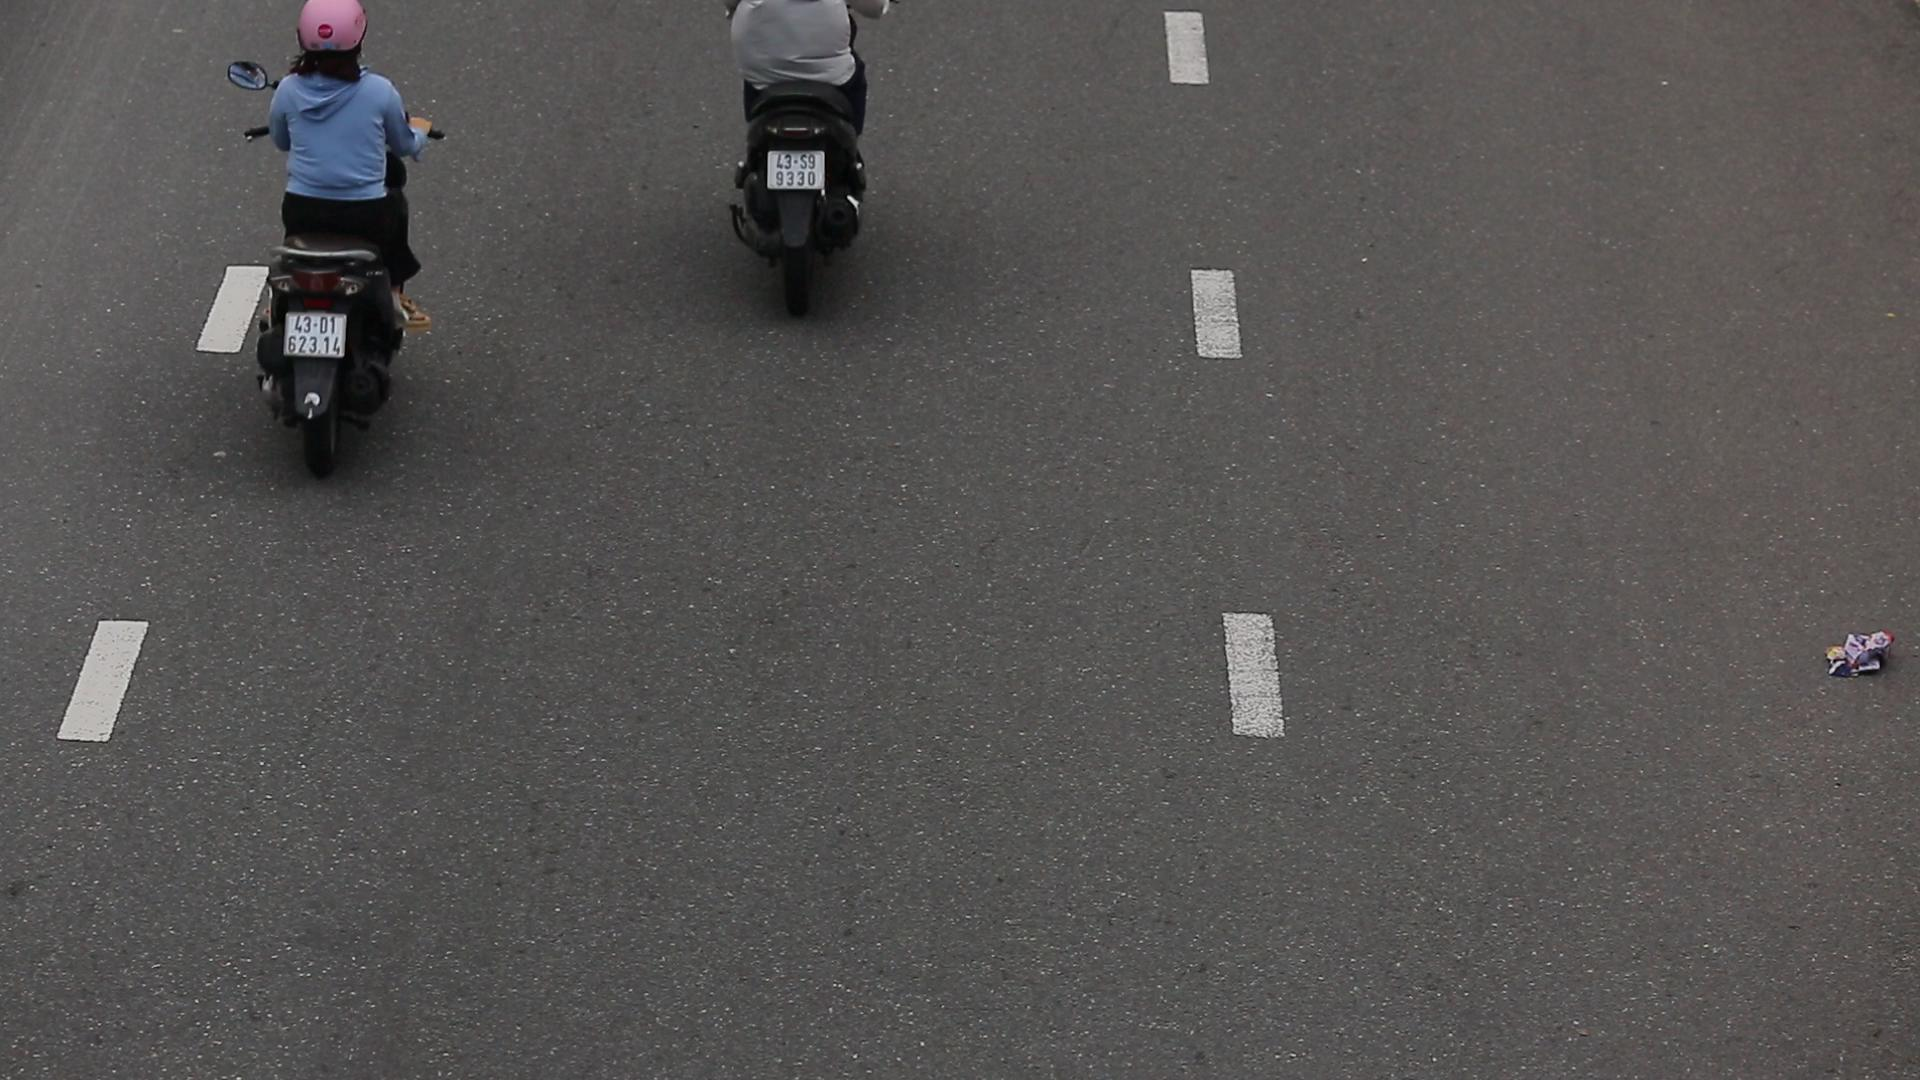motobike: (208, 0, 456, 506)
